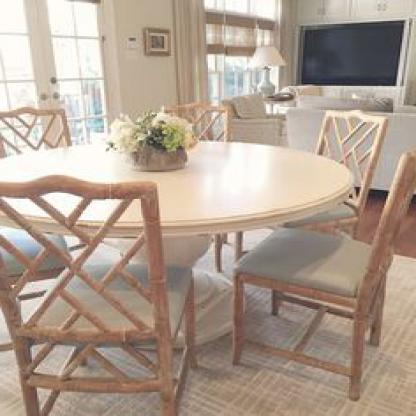chair: (223, 145, 416, 404), (0, 178, 198, 416), (263, 100, 386, 221), (0, 102, 87, 155), (155, 97, 232, 148)
